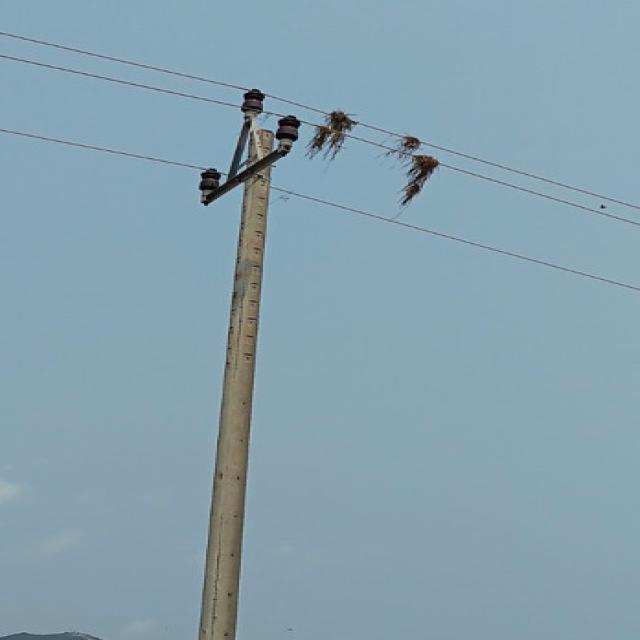植被遮挡: (383, 135, 442, 208), (307, 106, 362, 160)
